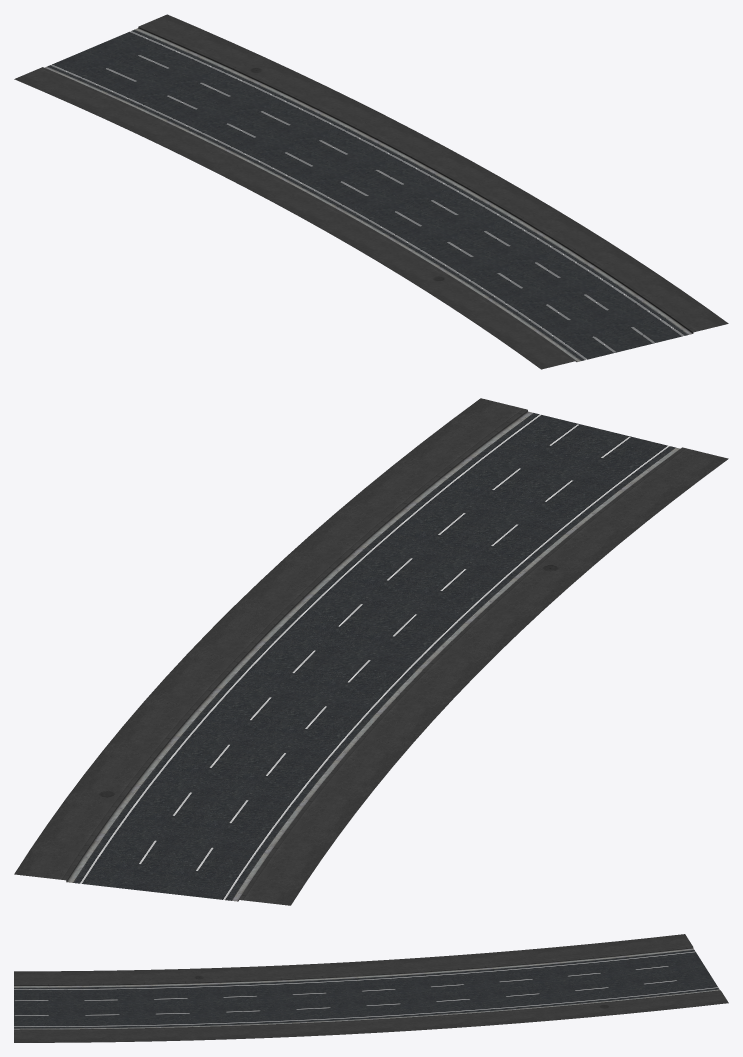
File: city_road_3ways15left.fbx
3 renders of one model, top to bottom at view 1: azimuth 30°, elevation 25°; view 2: azimuth 150°, elevation 25°; view 3: azimuth 270°, elevation 25°, orthographic. The views are drawn at different scales.
Visible parts, largest first — view 1: obj0; view 2: obj0; view 3: obj0.
Boxes of the visible parts, x1,y1,x2,y2 form: obj0: (14,14,728,369); obj0: (14,398,728,905); obj0: (14,934,728,1042).
Size of the model in its own units: 56.04 by 0.254 by 155.
